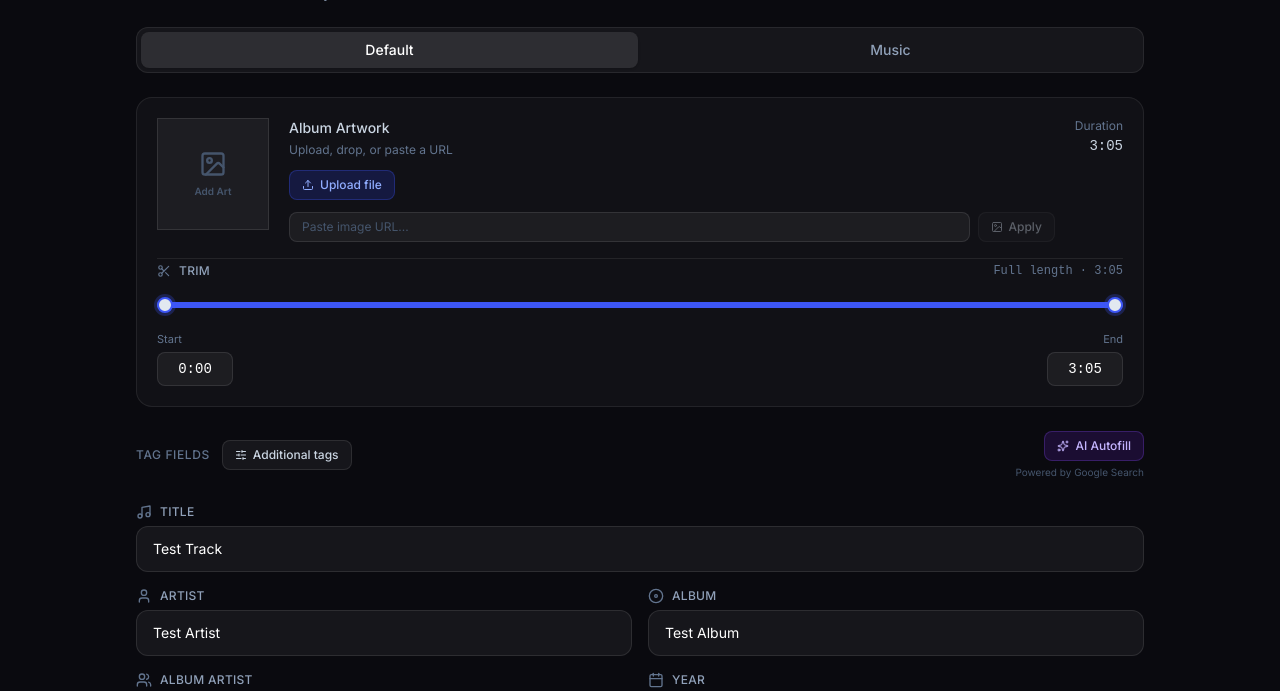
TagEditor field editing › sets track number to 1 when singles mode is enabled
The width and height of the screenshot is (1280, 691).
Click the button "music" at coordinates (890, 50), box x1=642 y1=32 x2=1139 y2=68
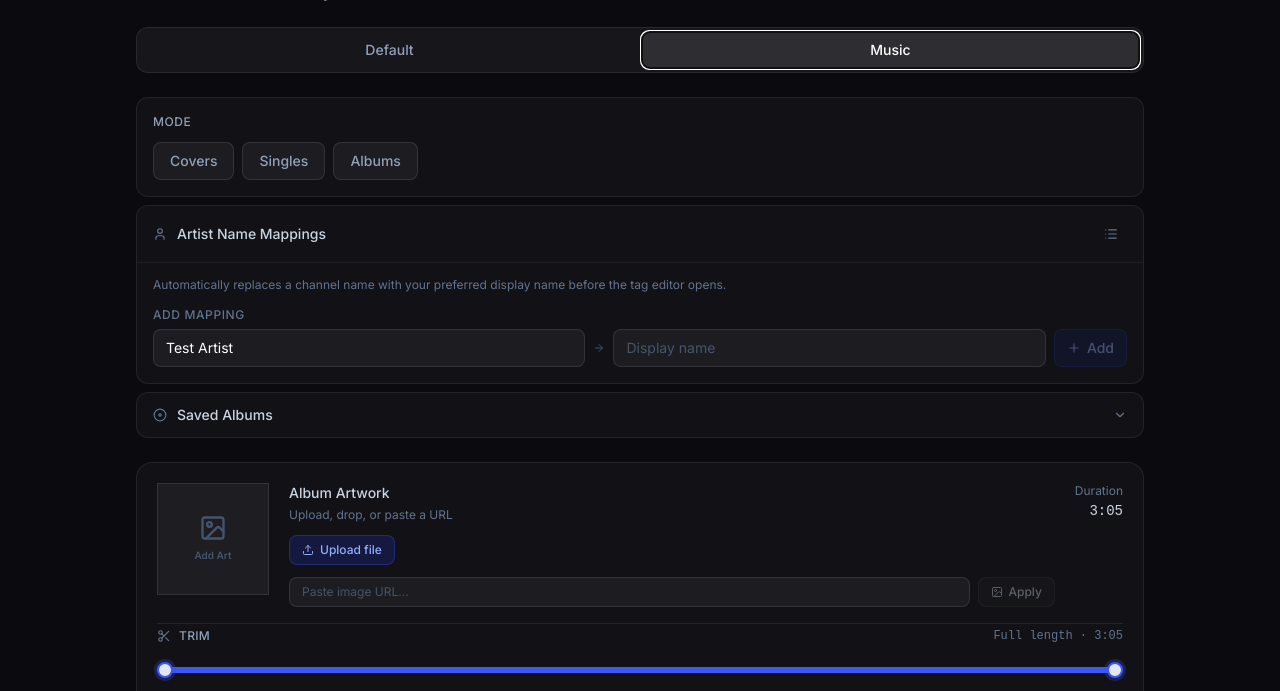
Click the button "singles" at coordinates (284, 161), box x1=242 y1=142 x2=325 y2=180
(page scrolled)
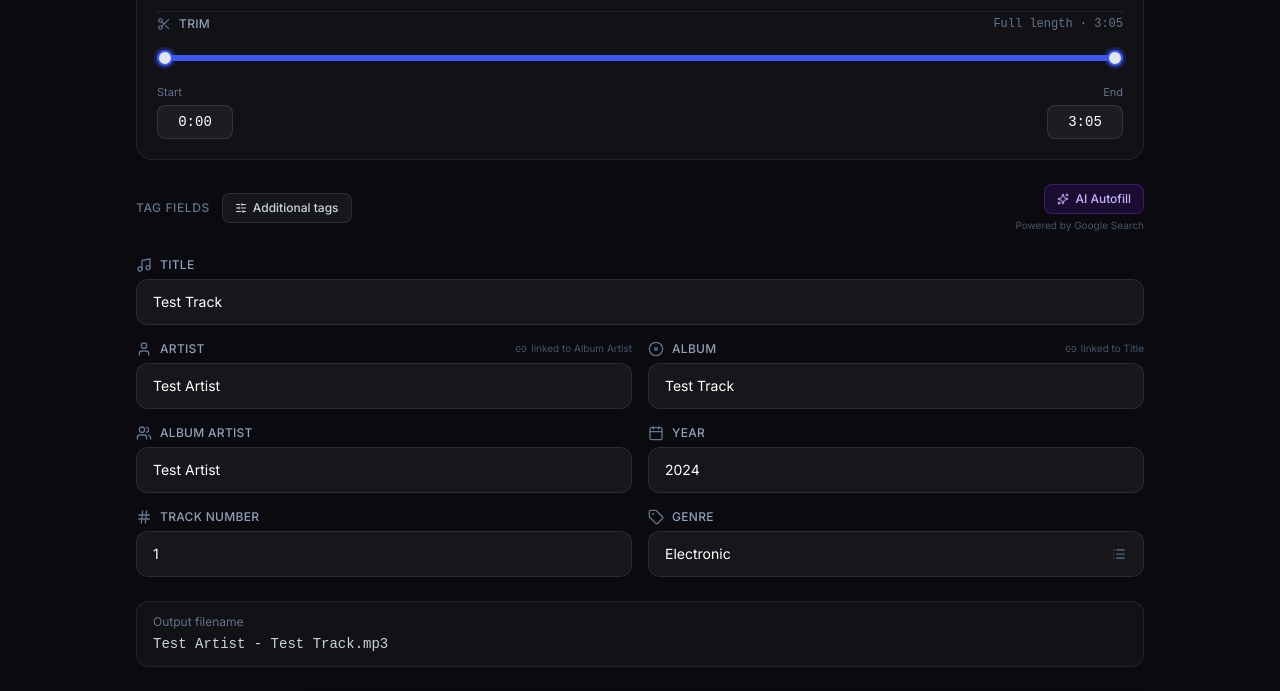
Result: the field with placeholder "e.g. 1 or 1/12" holds "1" at x1=136 y1=530 x2=632 y2=576
Result: the field with placeholder "Album name" holds "Test Track" at x1=648 y1=362 x2=1144 y2=408
